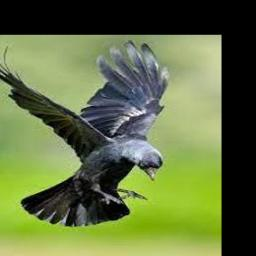Crow: (0, 40, 168, 226)
